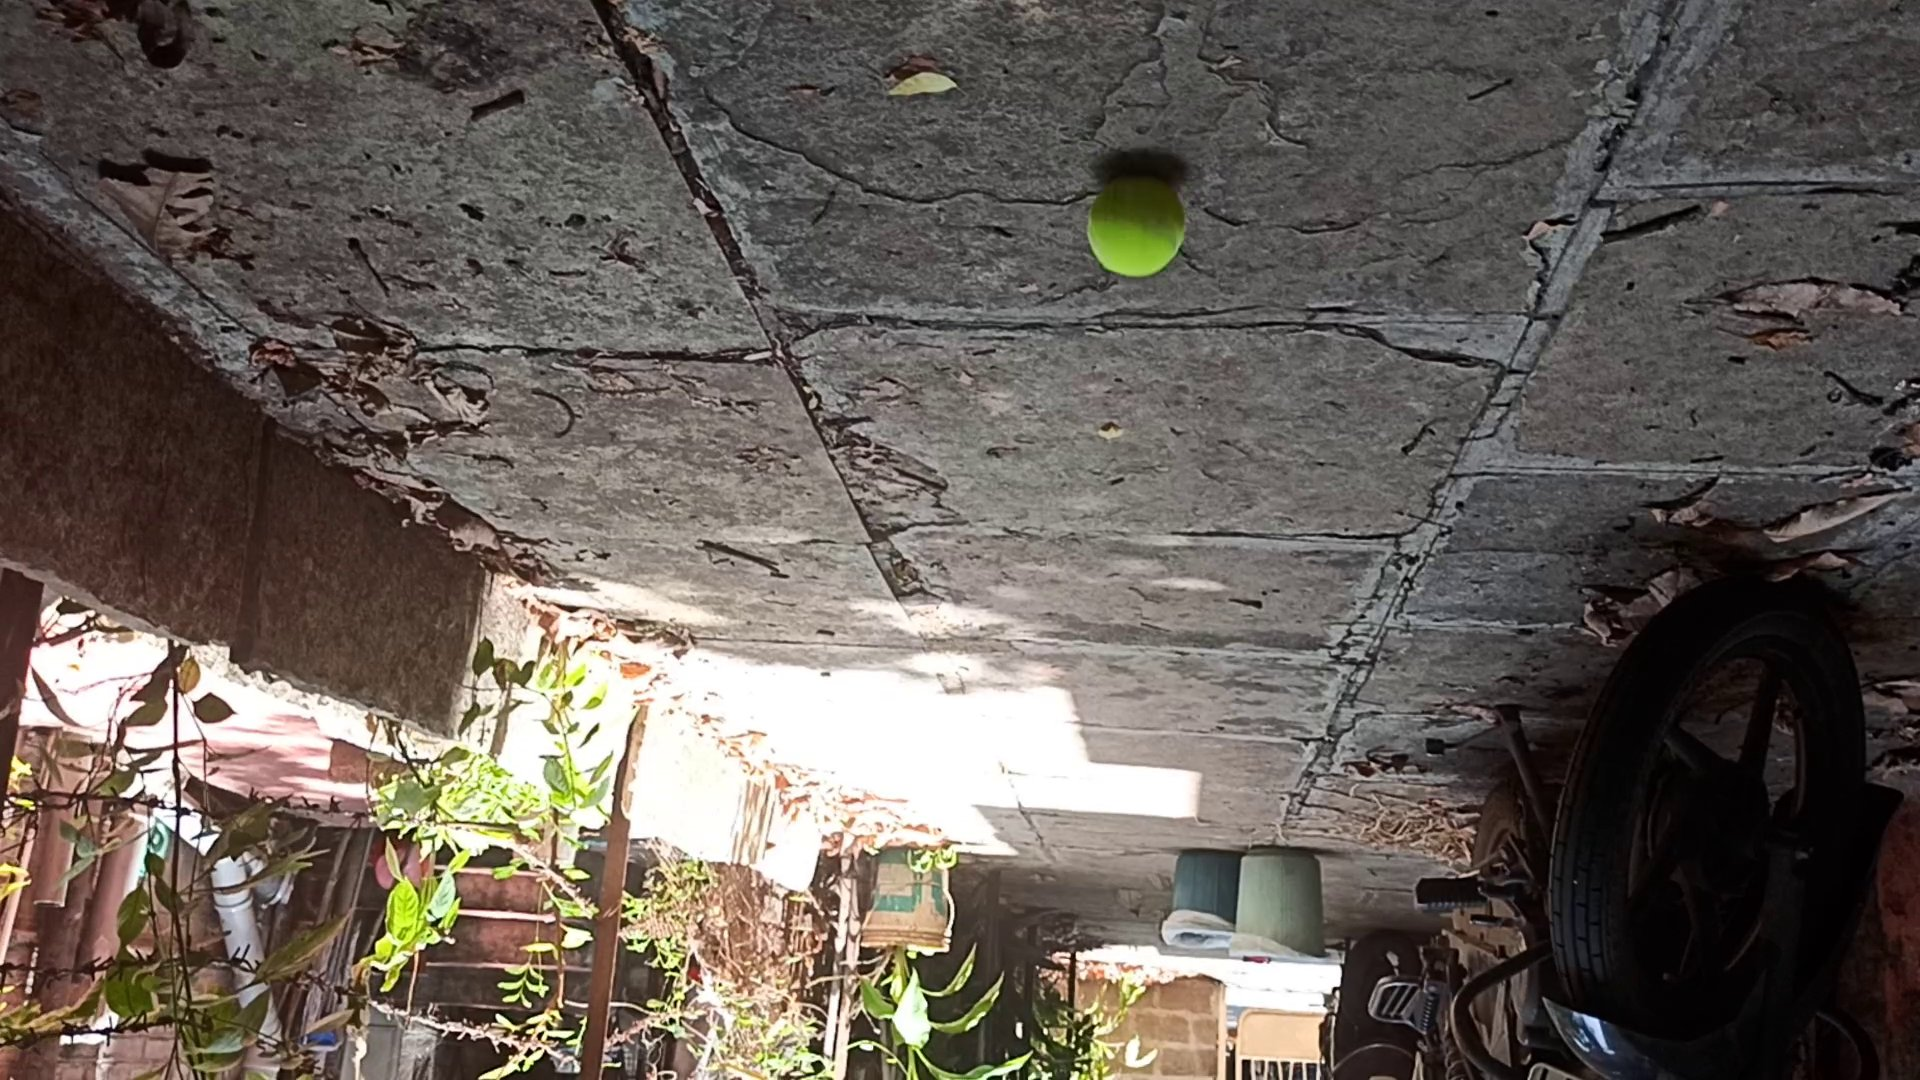Tennis-Ball: (1087, 177, 1185, 276)
